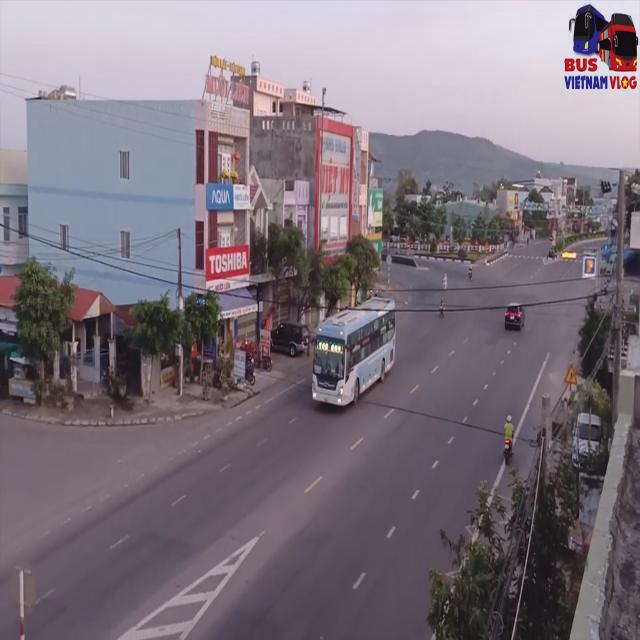bus: (311, 297, 397, 413)
car: (503, 301, 524, 333)
motorbike: (501, 416, 515, 470)
truck: (560, 2, 638, 88)
